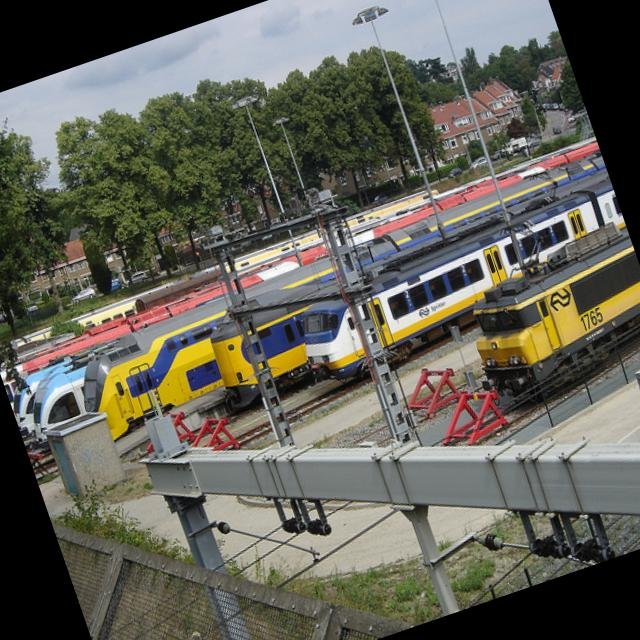Vehicle: (69, 284, 98, 304), (126, 270, 148, 286), (468, 156, 488, 170), (446, 166, 464, 180), (525, 134, 542, 148), (551, 124, 562, 134), (566, 112, 574, 121), (550, 102, 559, 110)
